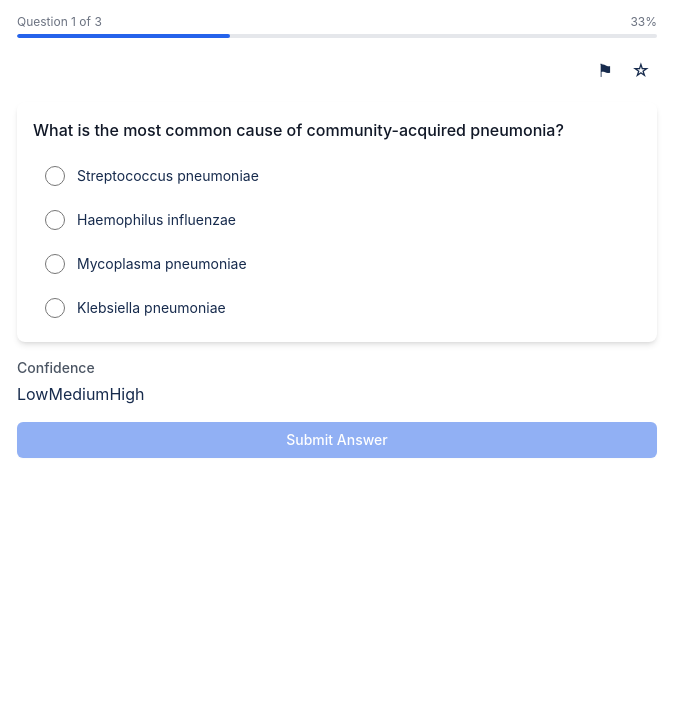
AnswerFeedback — answer summary › shows answer summary when present
The image size is (675, 718).
Expected: the text with test id "question-stem" is shown, [33,118,641,142]
Click the radio button showing "o1": (55,176) [45,166,65,186]
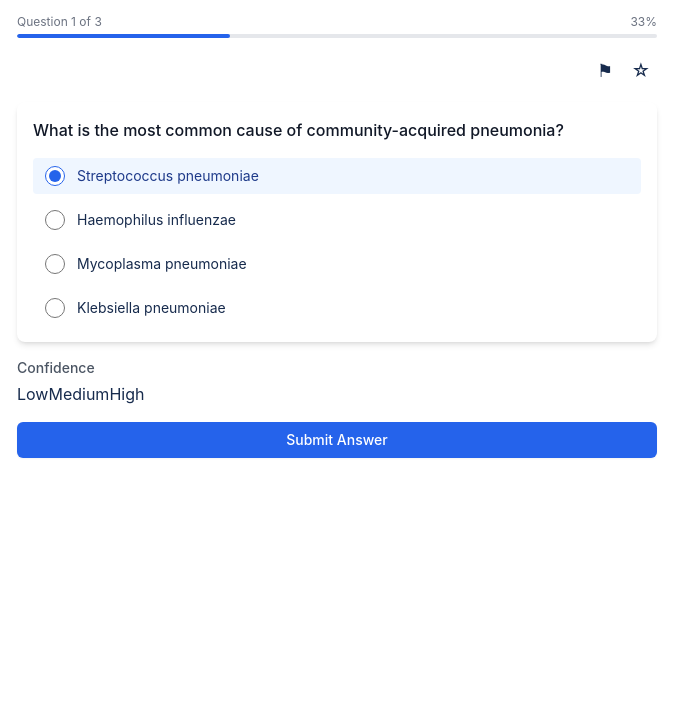
Click the button with test id "submit-button": (337,440) [17,422,657,458]
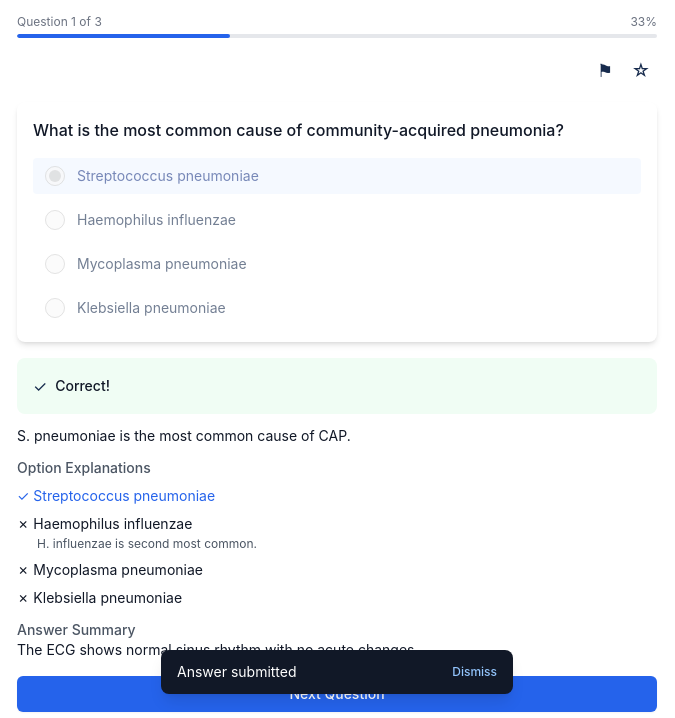
Expected: the element with test id "answer-summary" is shown, [17,621,418,658]
Expected: the text "The ECG shows normal sinus rhythm with no acute changes." is shown, [17,641,418,658]
